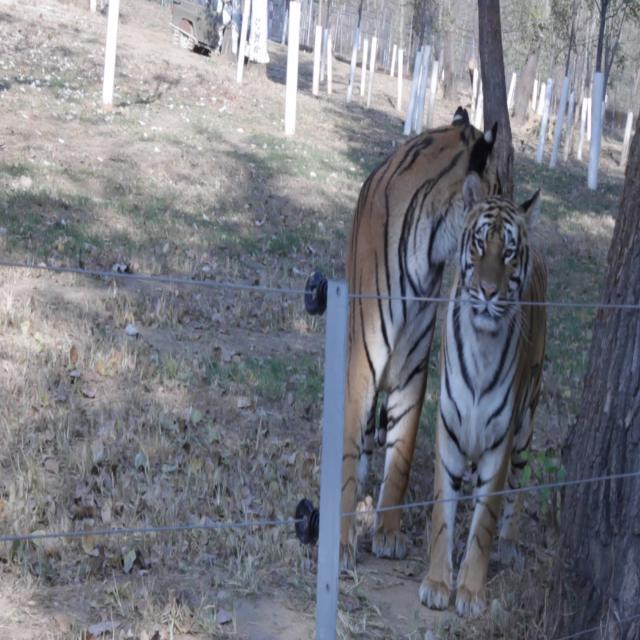Tiger: (334, 102, 501, 564), (419, 165, 547, 622)
